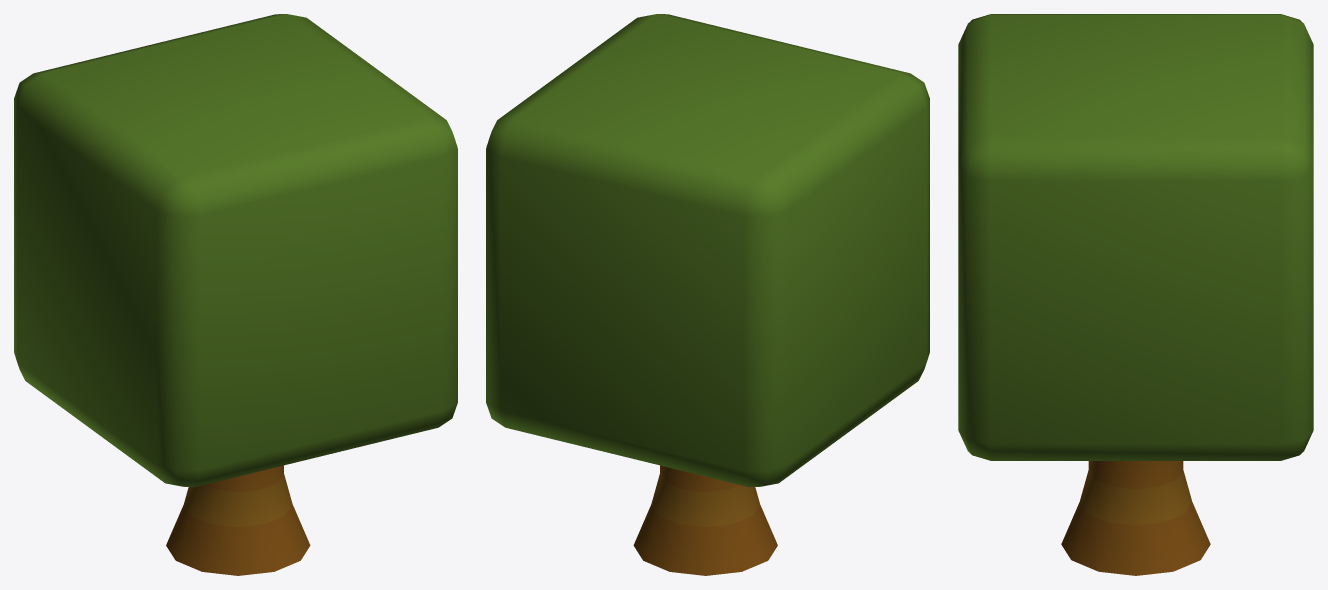
File: Tree.fbx
3 views of the same model, side by side, from view 1: azimuth 30°, elevation 25°; view 2: azimuth 150°, elevation 25°; view 3: azimuth 270°, elevation 25° (orthographic). The views are drawn at different scales.
Visible parts, largest first — view 1: Cylinder.005; view 2: Cylinder.005; view 3: Cylinder.005.
Part boxes in pixels (x1,y1,x2,y2): Cylinder.005: [14, 14, 457, 575]; Cylinder.005: [486, 14, 929, 575]; Cylinder.005: [958, 14, 1313, 575].
Bounding box in the file's own units: 107 × 155 × 107.
